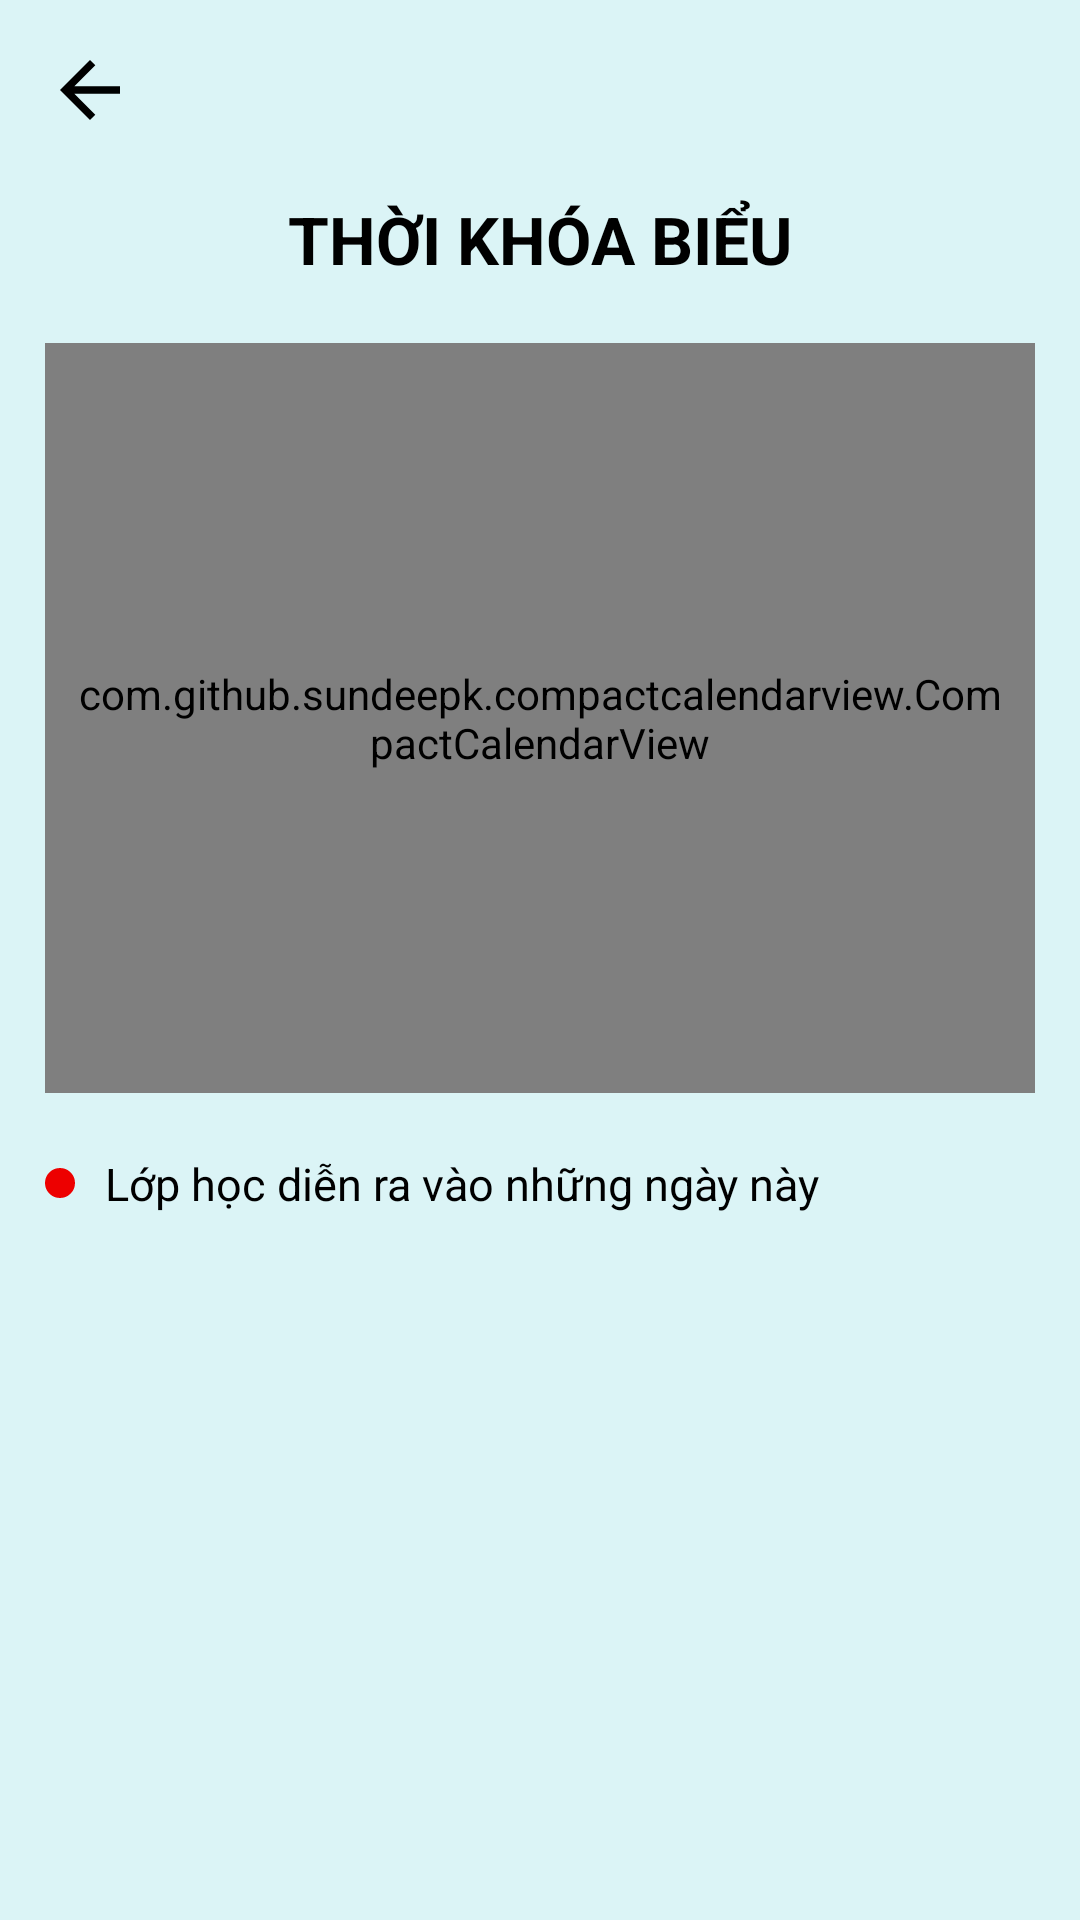

Where icons sit on this 1080*1920 app screen, as [left=x1, top=y1, right=x2, bottom=y2]:
back arrow: [left=60, top=60, right=120, bottom=120]
